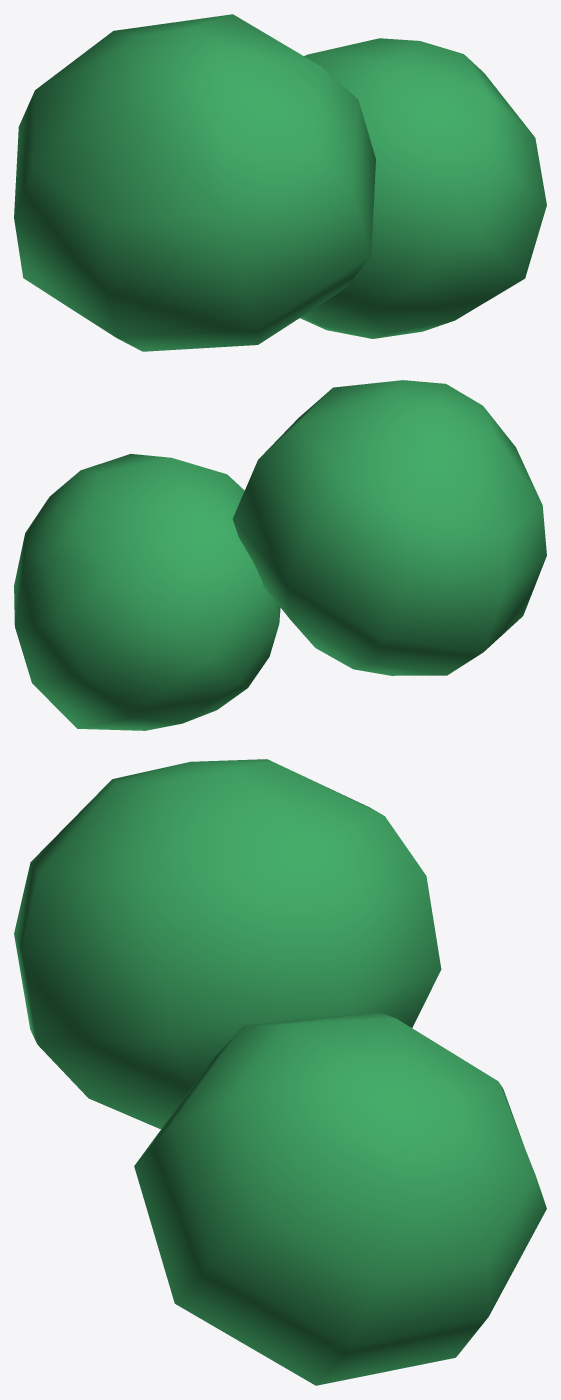
The model's file is Tree_Top_B_02_LOD2.gltf.
3 renders of one model, top to bottom at view 1: azimuth 30°, elevation 25°; view 2: azimuth 150°, elevation 25°; view 3: azimuth 270°, elevation 25°, orthographic. The views are drawn at different scales.
Parts seen in each view (by area): view 1: Tree_Top_B_02_LOD2_Cylinder.678; view 2: Tree_Top_B_02_LOD2_Cylinder.678; view 3: Tree_Top_B_02_LOD2_Cylinder.678.
Part boxes in pixels (bbox=[...]): Tree_Top_B_02_LOD2_Cylinder.678: bbox=[14, 14, 546, 351]; Tree_Top_B_02_LOD2_Cylinder.678: bbox=[14, 380, 546, 730]; Tree_Top_B_02_LOD2_Cylinder.678: bbox=[14, 759, 546, 1385].
Size of the model in its own units: 9.67 by 6.84 by 7.3.
Materials: 1 (1 with a texture image).
